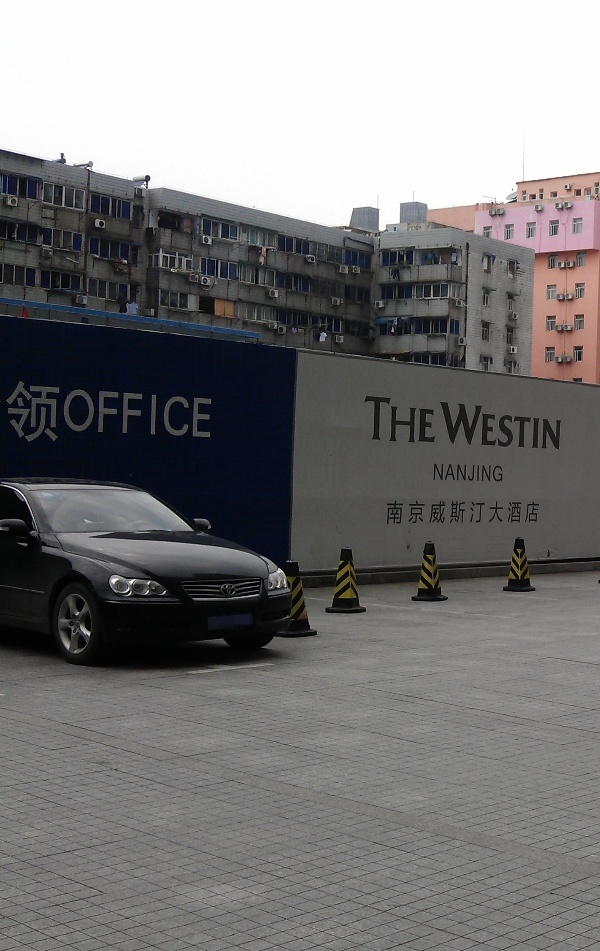text: (17, 379, 32, 446), (33, 379, 48, 446), (65, 387, 80, 442), (81, 387, 96, 442), (97, 387, 112, 442), (113, 387, 128, 442), (129, 387, 144, 442), (145, 387, 160, 442), (161, 387, 176, 442), (177, 387, 192, 442), (193, 387, 208, 442), (449, 401, 464, 455), (465, 401, 480, 455), (481, 401, 496, 455), (497, 401, 512, 455), (513, 401, 528, 455), (529, 401, 544, 455), (545, 401, 560, 455), (49, 379, 61, 446), (369, 395, 384, 447), (385, 395, 400, 447), (401, 395, 416, 447), (417, 395, 432, 447), (5, 379, 16, 446), (209, 387, 217, 442), (440, 401, 448, 455), (401, 500, 416, 526), (417, 500, 432, 526), (433, 500, 448, 526), (449, 500, 464, 526), (465, 500, 480, 526), (481, 500, 496, 526), (497, 500, 512, 526), (513, 500, 528, 526), (387, 500, 400, 526), (433, 462, 448, 484), (449, 462, 464, 484), (465, 462, 480, 484), (481, 462, 496, 484), (433, 395, 439, 447), (529, 500, 541, 526), (364, 395, 368, 447), (561, 401, 564, 455), (497, 462, 503, 484)
